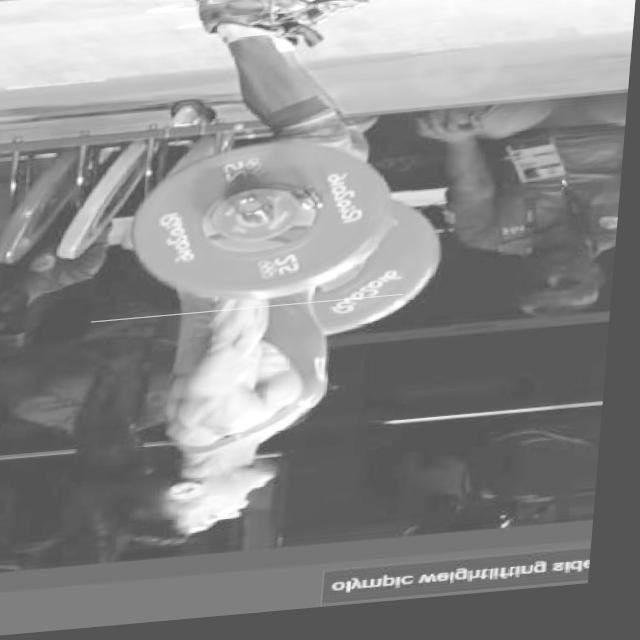barbell: (98, 123, 421, 326)
